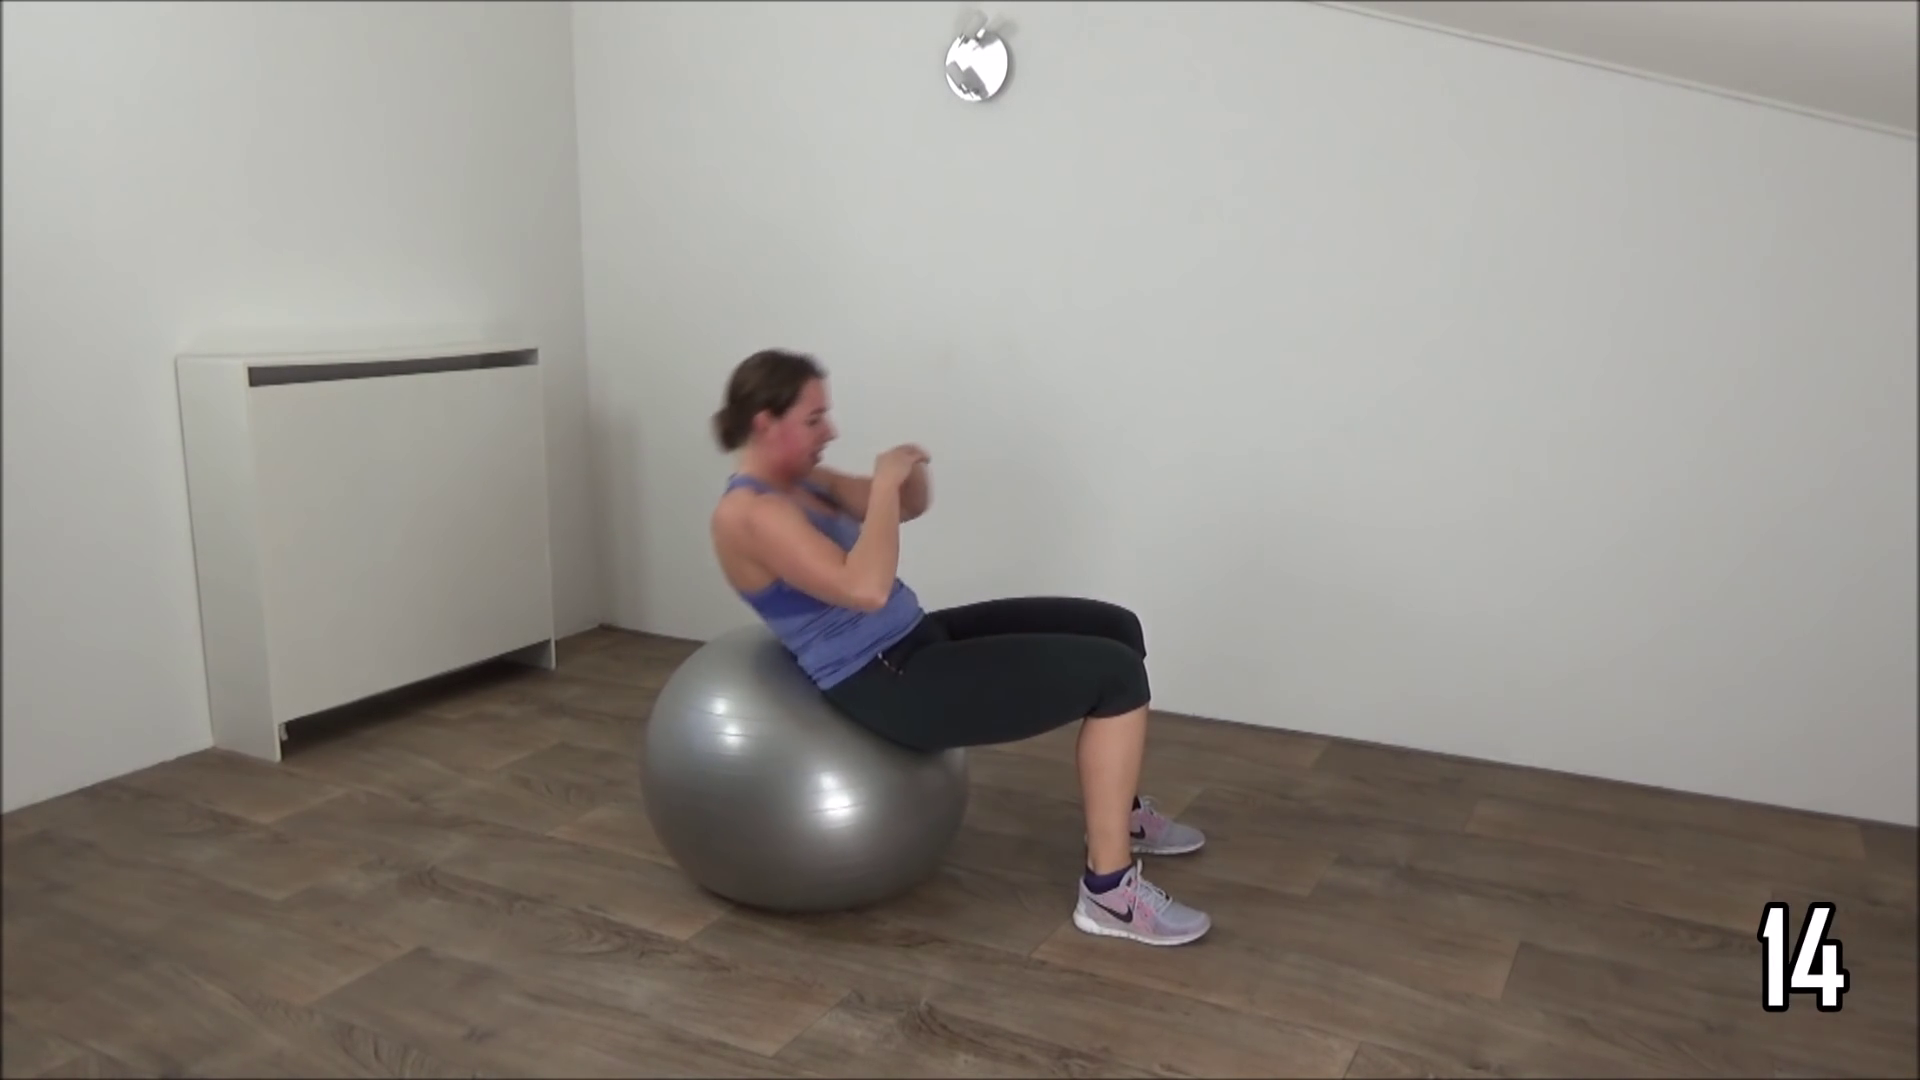yogaball: (626, 630, 986, 927)
